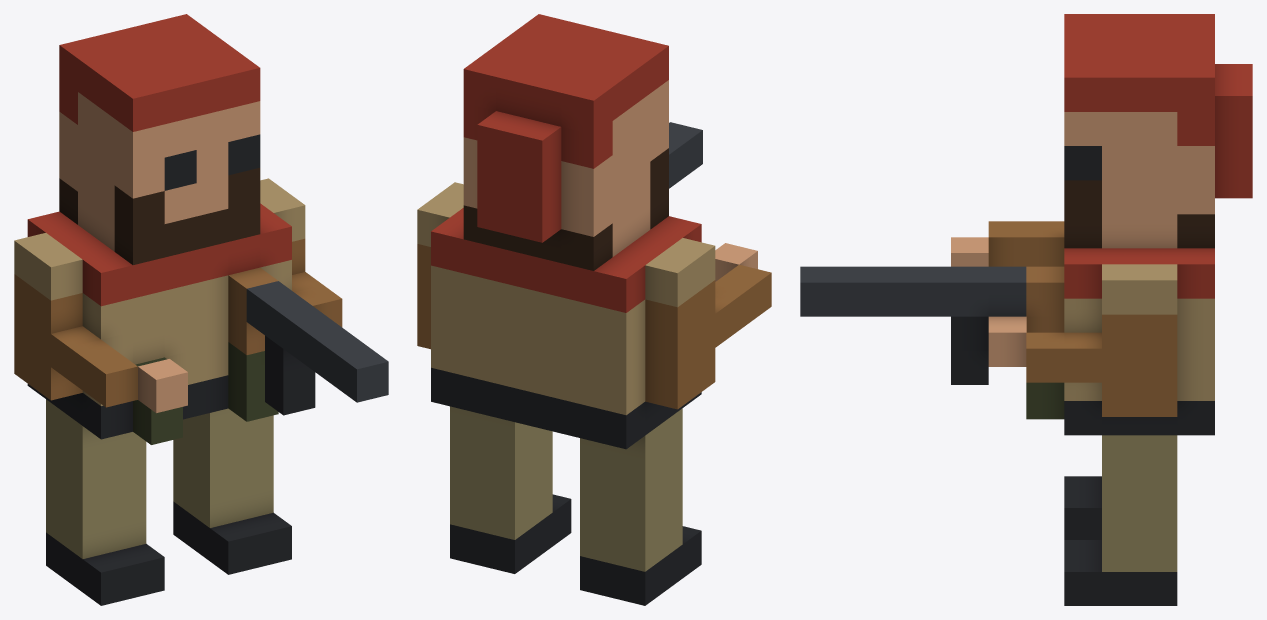
Rendered from cm_guard_6.glb.
3 renders of one model, left to right at view 1: azimuth 30°, elevation 25°; view 2: azimuth 150°, elevation 25°; view 3: azimuth 270°, elevation 25°, orthographic. The views are drawn at different scales.
Visible parts, largest first — view 1: cm_guard_6_body; view 2: cm_guard_6_body; view 3: cm_guard_6_body.
Boxes of the visible parts, x1,y1,x2,y2 form: cm_guard_6_body: (14,14,388,605); cm_guard_6_body: (417,14,771,605); cm_guard_6_body: (800,14,1252,605).
Bounding box in the file's own units: 0.5 × 0.9375 × 0.75.
Materials: 1 (1 with a texture image).
